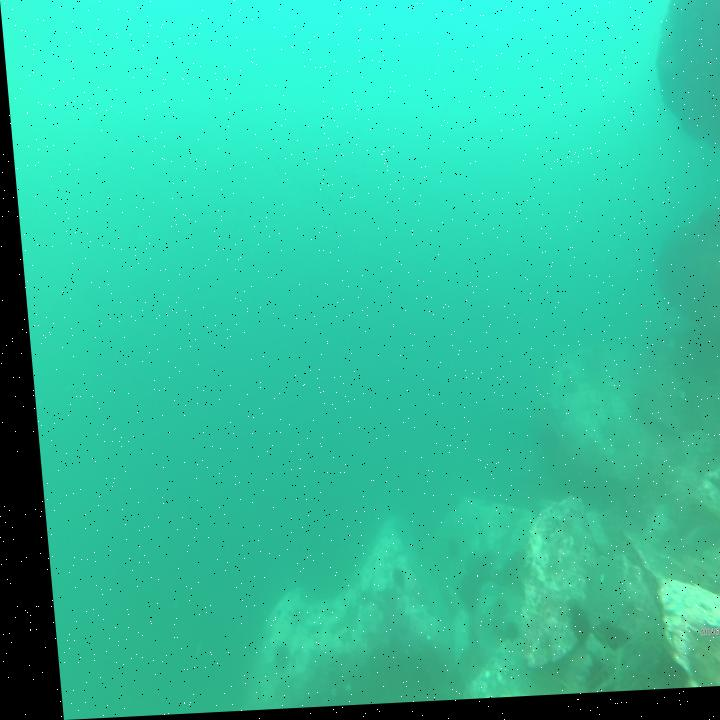echinus: (585, 623, 619, 660), (555, 605, 577, 650), (258, 641, 279, 675), (488, 622, 509, 649), (379, 567, 397, 594)
